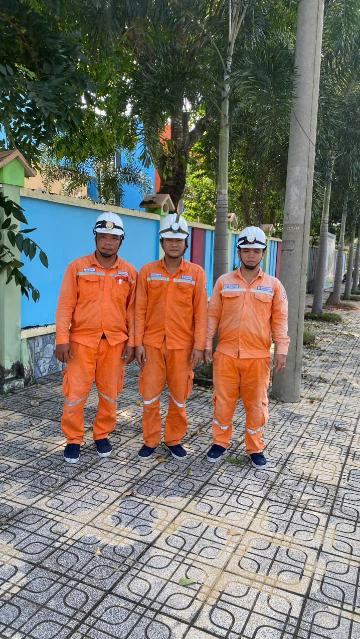helmet: (155, 211, 192, 247), (91, 210, 131, 239), (239, 227, 267, 254)
shoes: (62, 436, 91, 469), (85, 434, 116, 459), (246, 443, 269, 475), (161, 440, 193, 462), (200, 438, 228, 463), (136, 439, 155, 465)
